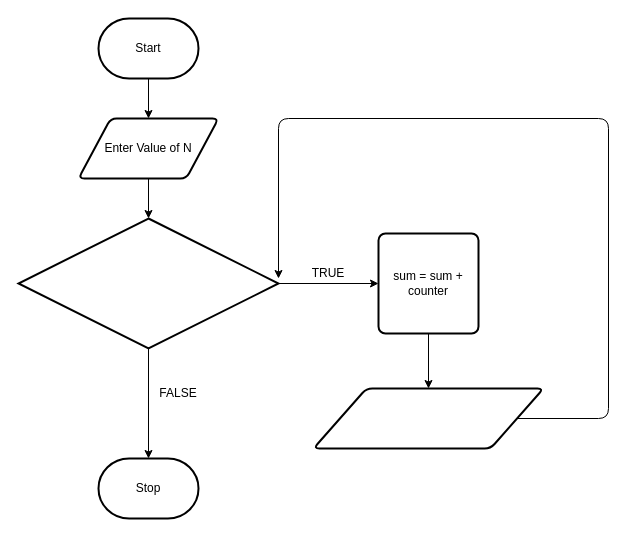
Image size: 634x536. Some labels were removed from this diagram. Here are the shapes that lost their labels. From the top down, the box of each, then its label:
(17, 217, 279, 349): for (let loop = 0; loop < numN; loop++)
(312, 387, 544, 449): Output = "The total sum equals " + sum + ".<br>"
